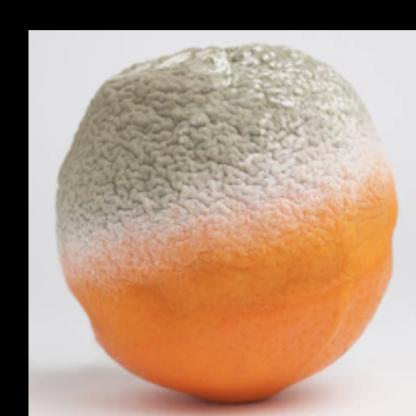rotten: (58, 49, 399, 403)
